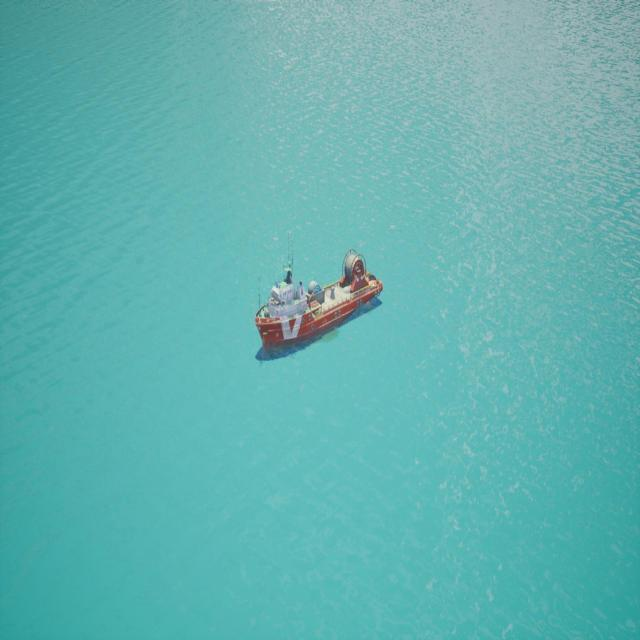tug boat: (256, 249, 385, 365)
